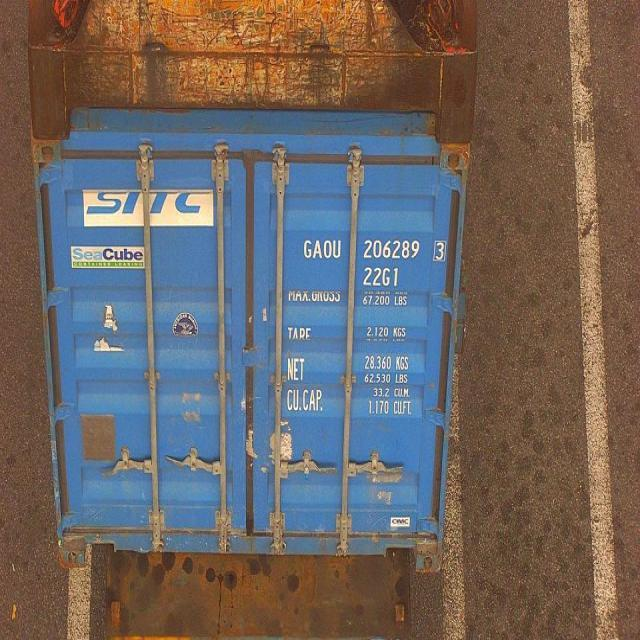ISO: (364, 268, 399, 288)
container_number: (302, 238, 432, 262)
